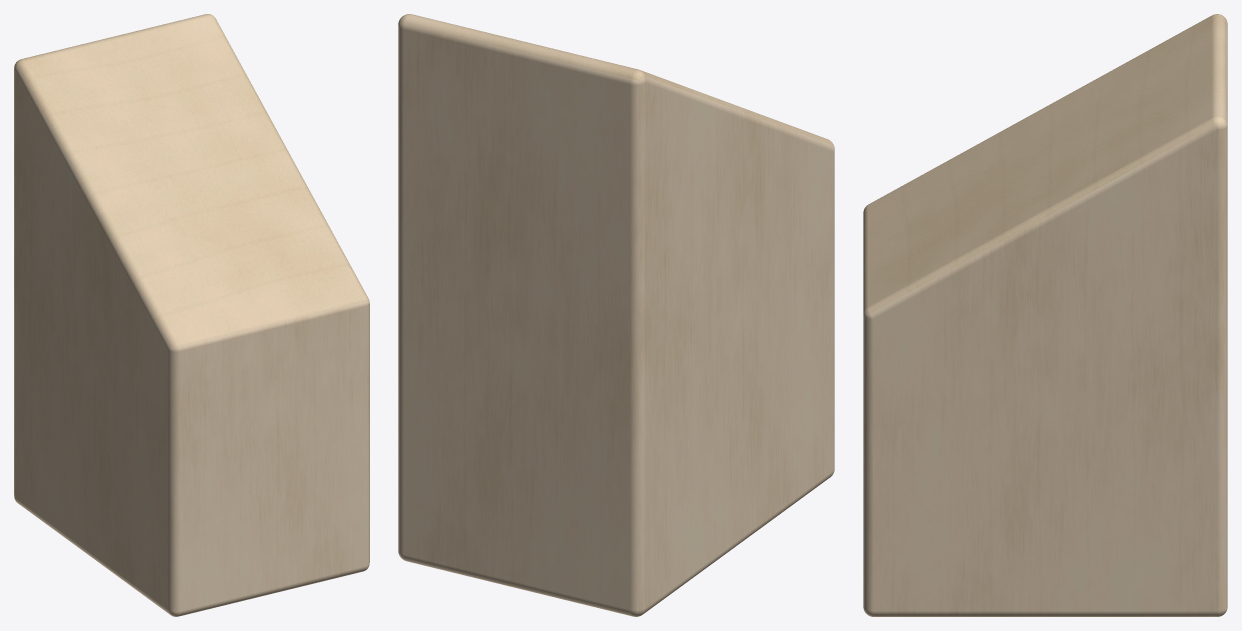
File: bishop-white-hd.glb
3 views of the same model, side by side, from view 1: azimuth 30°, elevation 25°; view 2: azimuth 150°, elevation 25°; view 3: azimuth 270°, elevation 25° (orthographic). The views are drawn at different scales.
Parts seen in each view (by area): view 1: Rez_Strelec_bily; view 2: Rez_Strelec_bily; view 3: Rez_Strelec_bily.
Boxes of the visible parts, x1,y1,x2,y2 form: Rez_Strelec_bily: (14,14,369,616); Rez_Strelec_bily: (398,14,834,616); Rez_Strelec_bily: (863,14,1227,616).
Size of the model in its own units: 0.4814 by 1.02 by 0.6739.
2 materials, 2 textured.
